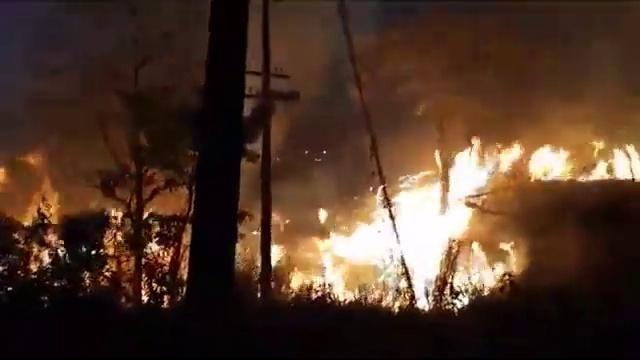fire: (395, 195, 447, 281)
